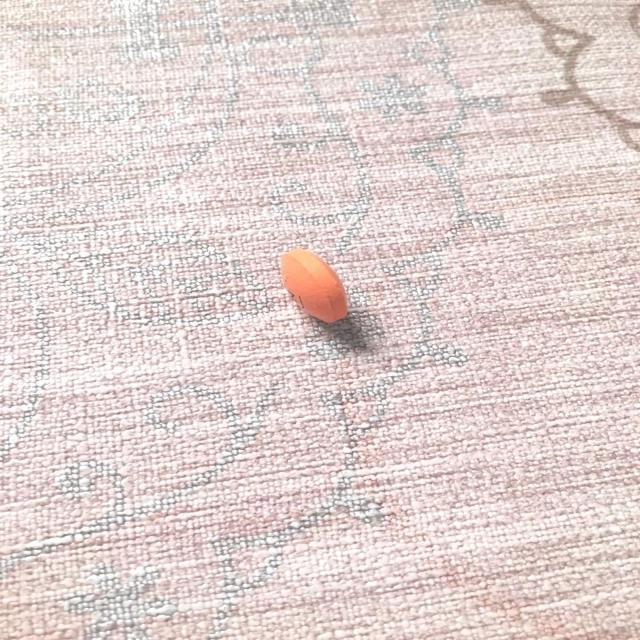pill: (256, 246, 361, 334)
